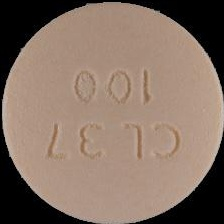43199-037: (0, 0, 224, 224)
